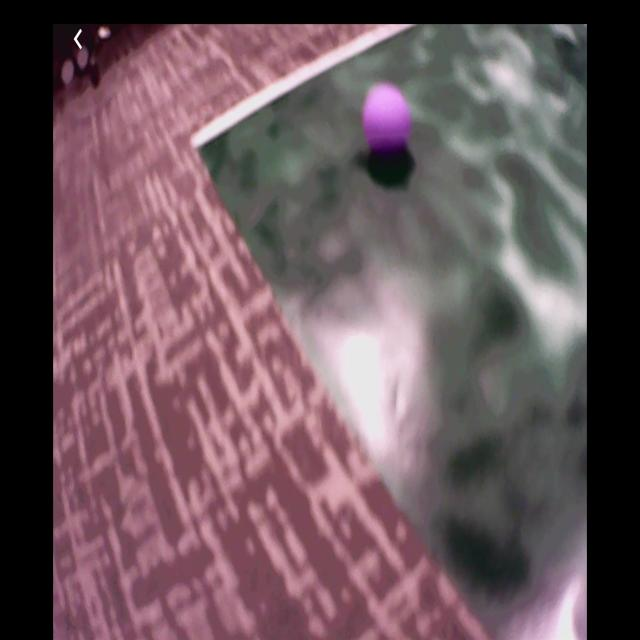ball: (364, 84, 411, 159)
